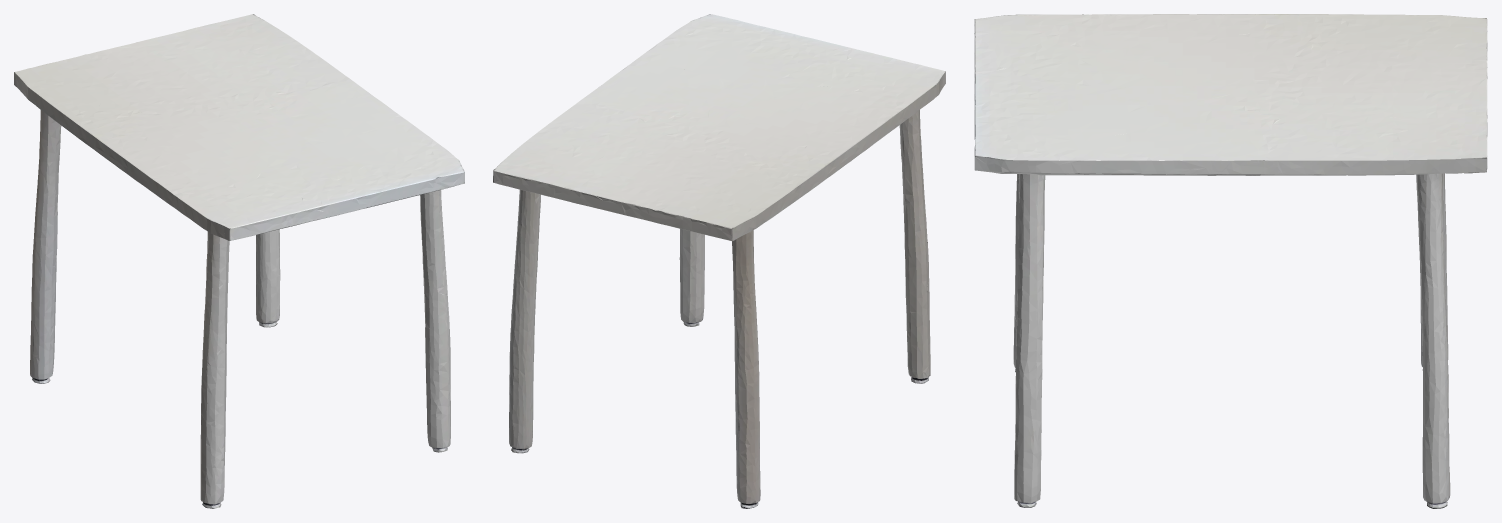
Rendered from ast_b80193251739.glb.
3 views of the same model, side by side, from view 1: azimuth 30°, elevation 25°; view 2: azimuth 150°, elevation 25°; view 3: azimuth 270°, elevation 25° (orthographic). The views are drawn at different scales.
Parts seen in each view (by area): view 1: geometry_0; view 2: geometry_0; view 3: geometry_0.
Boxes of the visible parts, box(x1,y1,x2,y2) form: geometry_0: box(14, 14, 464, 508); geometry_0: box(493, 14, 945, 508); geometry_0: box(974, 14, 1487, 508).
Size of the model in its own units: 0.679 by 0.7565 by 1.
Materials: 1 (1 with a texture image).
